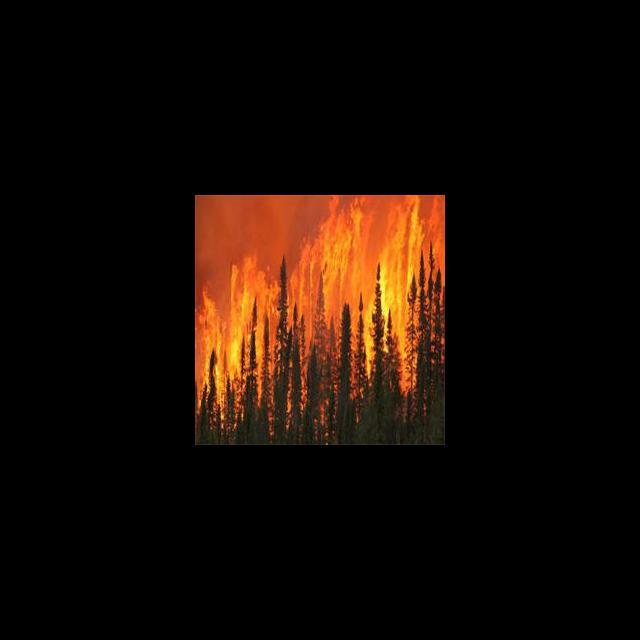Fire: (198, 198, 444, 392)
